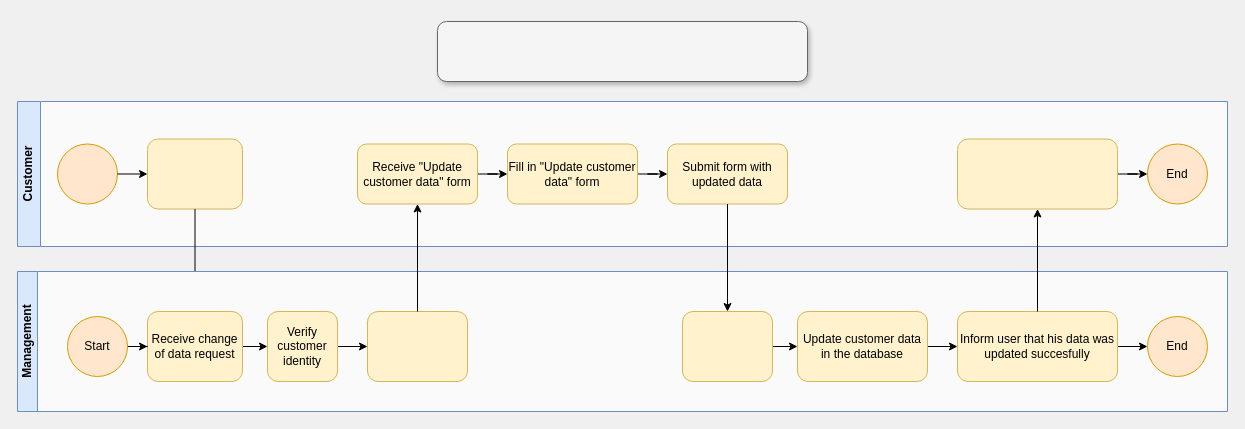
Some shapes in this 1245 by 429 pixel diagram are drawn without their labels. The centre of each missing label's shape, as x and y in pixels:
Change data: point 87,173
Contact CTS to update data: point 194,173
CTS Update Customer Data Process: point 623,52
Receive data update confirmation: point 1037,173
Receive form with updated data: point 727,346
Send "Update customer data" form: point 417,346
